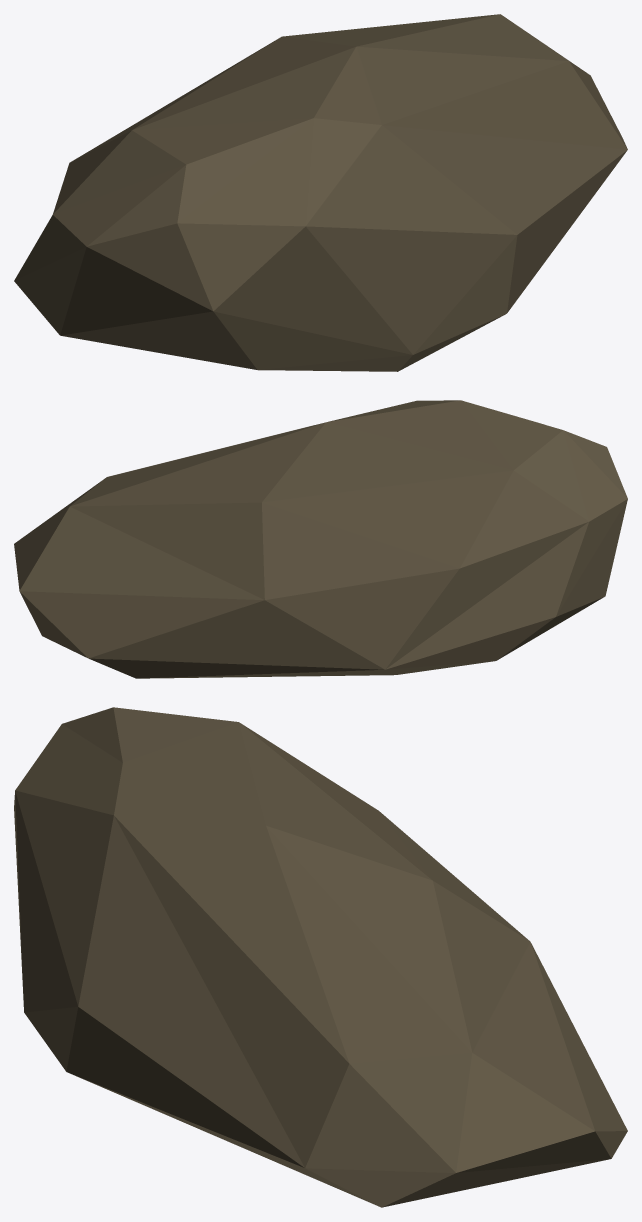
Rendered from mossy-stones.lod2.glb.
The picture shows the model from 3 angles, top to bottom: view 1: azimuth 30°, elevation 25°; view 2: azimuth 150°, elevation 25°; view 3: azimuth 270°, elevation 25°; orthographic projection. The views are drawn at different scales.
Parts seen in each view (by area): view 1: defaultMaterial; view 2: defaultMaterial; view 3: defaultMaterial.
Part boxes in pixels (<box>): defaultMaterial: <box>14,14,627,371</box>; defaultMaterial: <box>14,400,627,678</box>; defaultMaterial: <box>14,707,627,1207</box>.
Bounding box in the file's own units: 1.16 × 0.4627 × 0.8957.
